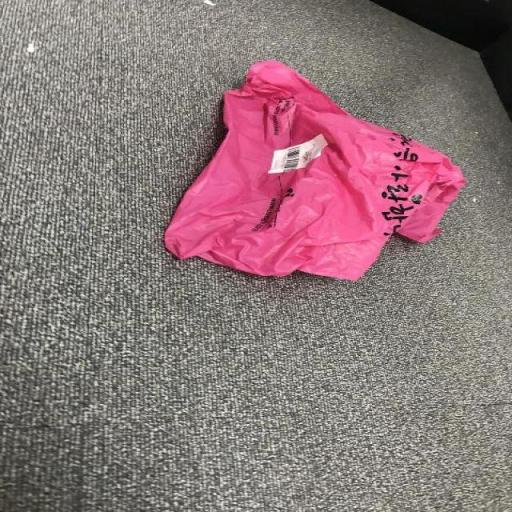plastic-bag: (162, 57, 466, 287)
